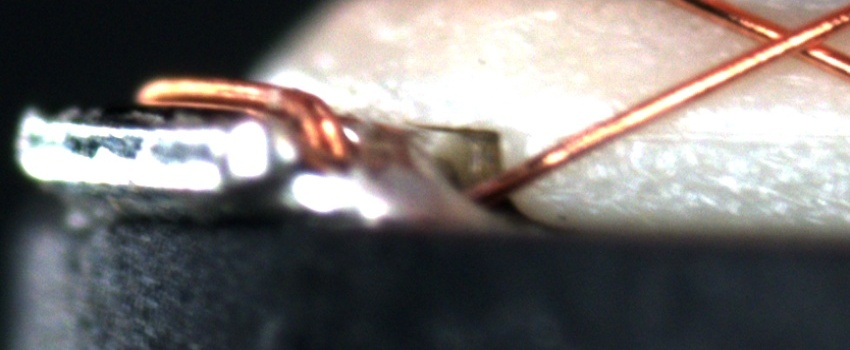CL: (733, 10, 843, 72)
DL: (617, 106, 846, 170)
TE: (132, 66, 352, 187)
